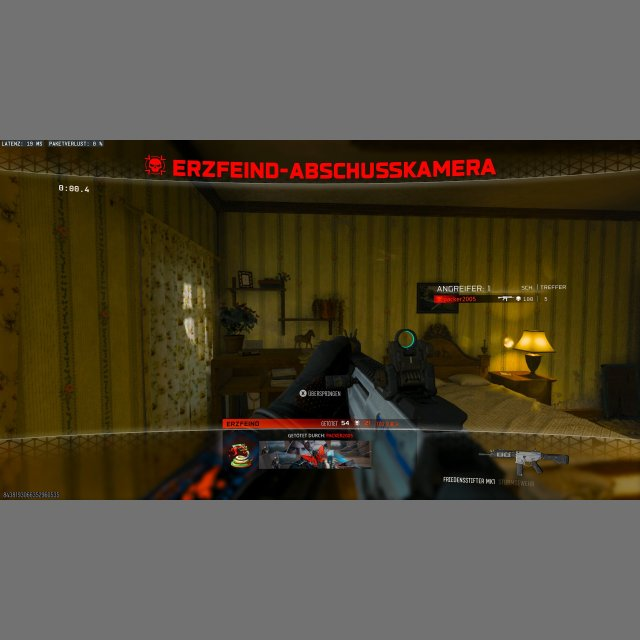player: (423, 323, 451, 358)
